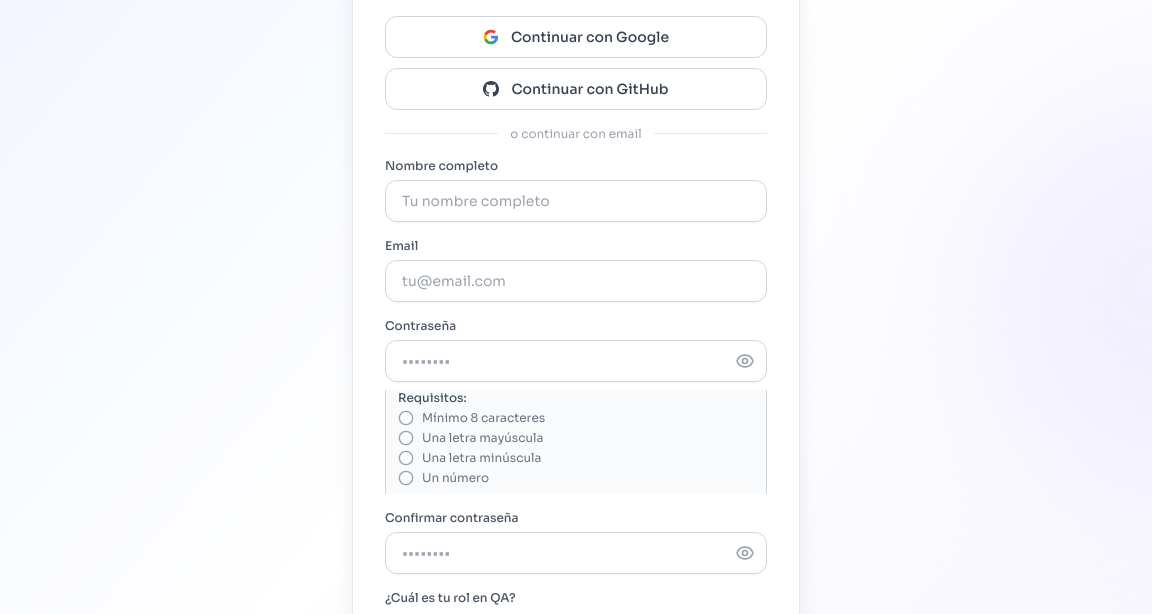
Test case: RegisterForm › Password Strength Indicator Integration › muestra indicador de fuerza mientras el usuario escribe
(page scrolled)
Type "weak" into the password field labelled "Contraseña".
click(576, 360); type("weak")  # box [385,340,767,382]
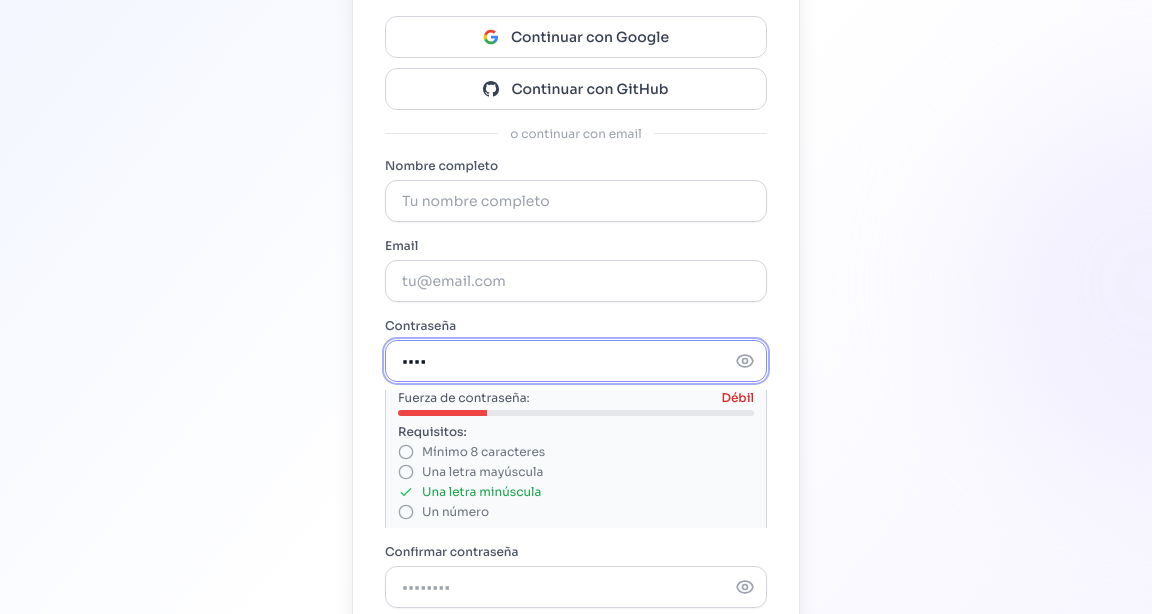
Expected: the text "Débil" is shown, [722,390,754,406]
Type "Strong123" into the password field labelled "Contraseña".
click(576, 360); type("Strong123")  # box [385,340,767,382]
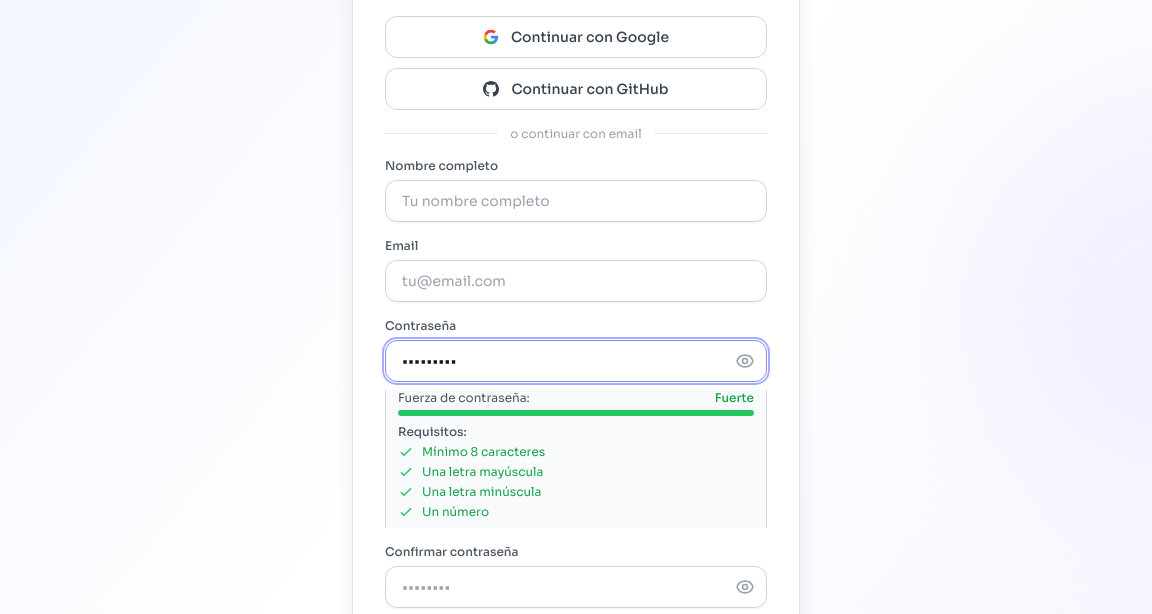
Expected: the text "Fuerte" is shown, [715,390,754,406]
